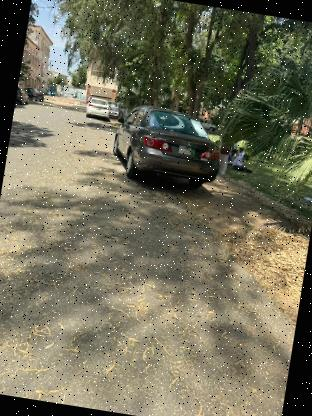car: (99, 96, 230, 198), (83, 96, 111, 121), (104, 98, 122, 118)
